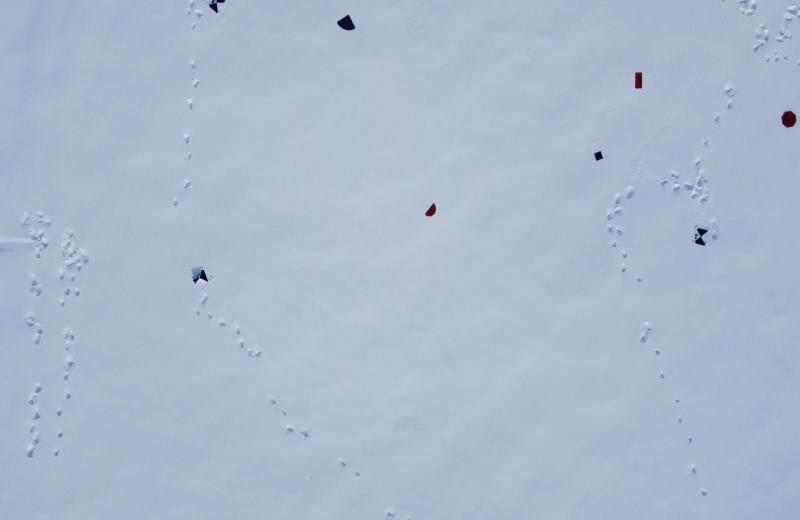Octagon: (780, 109, 798, 130)
Quarter Circle: (336, 14, 356, 34)
Rectangle: (634, 71, 644, 90)
Semi Circle: (424, 200, 436, 217)
Square: (593, 150, 604, 162)
